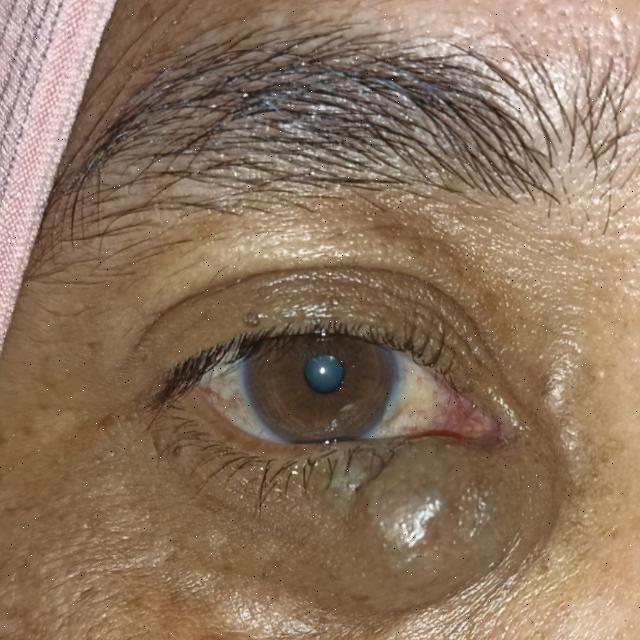Cataract: (241, 288, 394, 446)
